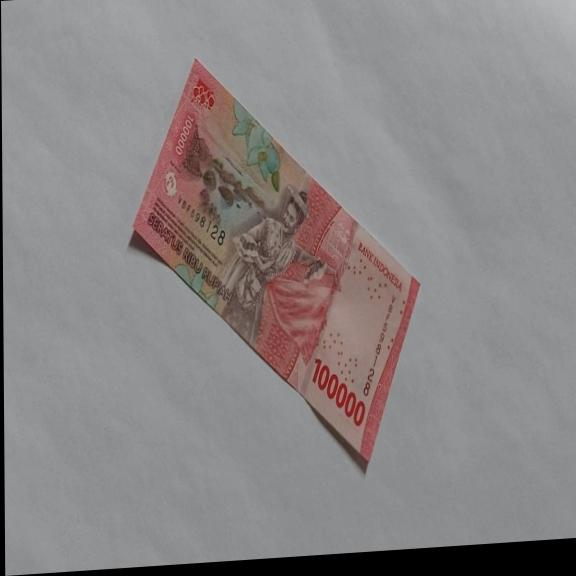Kertas: (128, 43, 421, 487), (311, 354, 365, 431)
